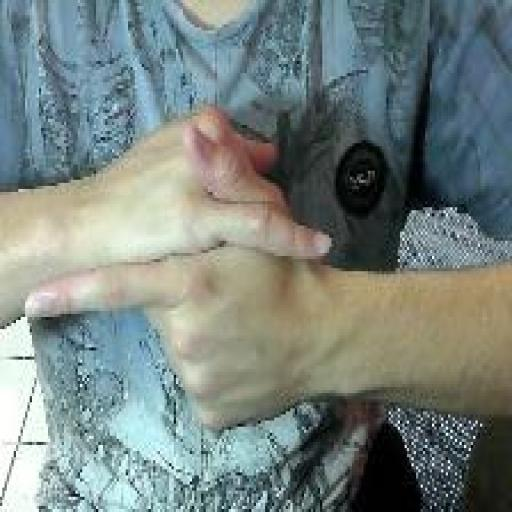U -hare-: (21, 96, 336, 437)
